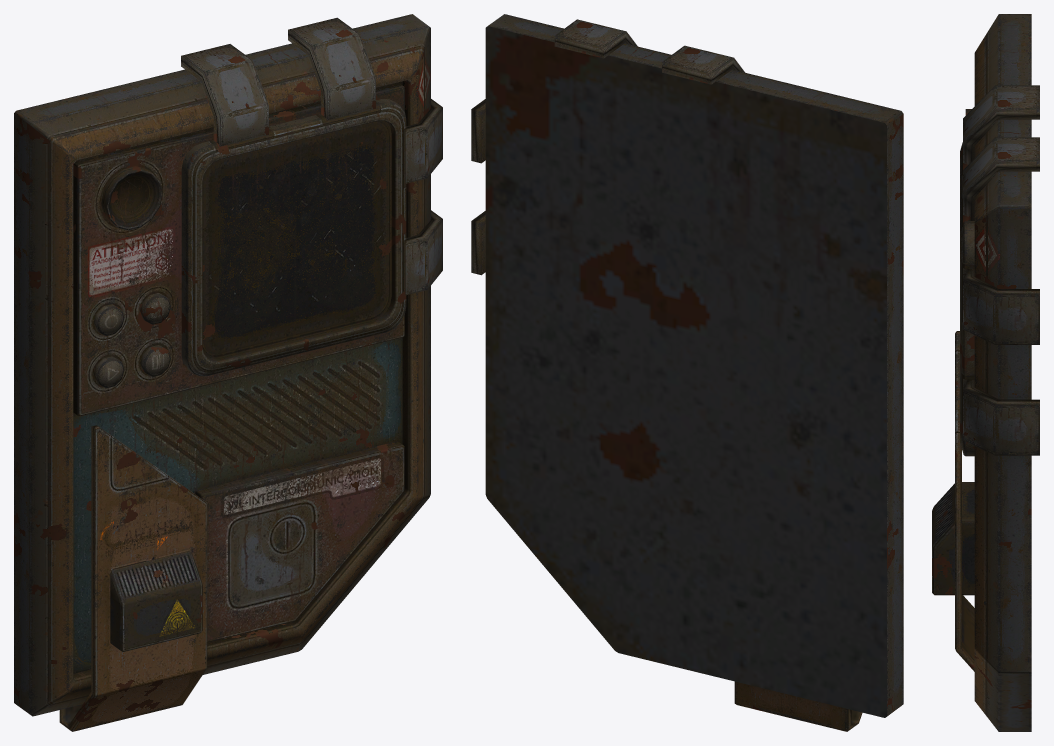
Rendered from intercom_station_broken.dae.
3 renders of one model, left to right at view 1: azimuth 30°, elevation 25°; view 2: azimuth 150°, elevation 25°; view 3: azimuth 270°, elevation 25°, orthographic.
Visible parts, largest first — view 1: polySurface35; view 2: polySurface35; view 3: polySurface35.
Boxes of the visible parts, box(x1,y1,x2,y2) form: polySurface35: box(14, 14, 442, 731); polySurface35: box(471, 14, 903, 731); polySurface35: box(932, 14, 1039, 731).
Size of the model in its own units: 0.3816 by 0.5607 by 0.0875.
